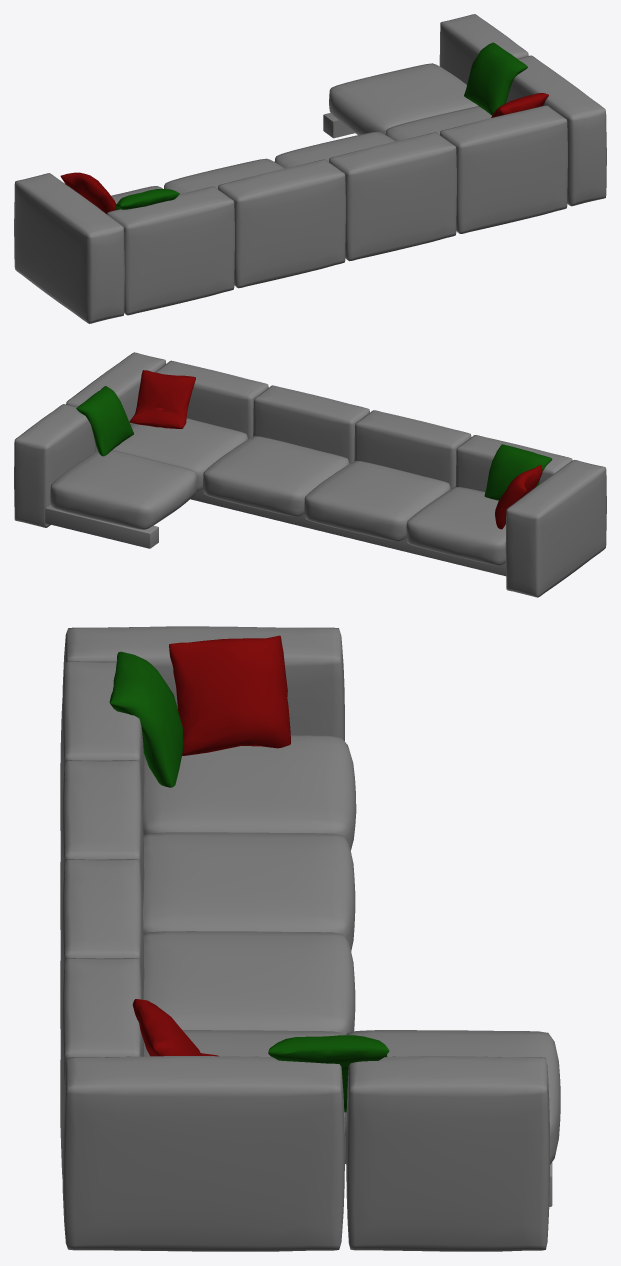
The model's file is Sofa.FBX.
3 views of the same model, one above another, from view 1: azimuth 30°, elevation 25°; view 2: azimuth 150°, elevation 25°; view 3: azimuth 270°, elevation 25° (orthographic). The views are drawn at different scales.
Parts seen in each view (by area): view 1: SofaFrame06, SofaFrame02, SofaFrame03, SofaFrame04, SofaFrame05, SeatCushion04, SofaFrame01, SofaFrame00, Cushion004, SeatCushion01, SeatCushion02, SeatCushion00 (+4 smaller); view 2: SofaFrame06, SeatCushion04, SeatCushion02, SeatCushion01, SofaFrame00, SofaFrame04, SofaFrame03, SeatCushion03, SeatCushion00, SofaFrame02, Cushion003, SofaFrame07 (+6 smaller); view 3: SofaFrame01, SofaFrame00, SeatCushion02, SeatCushion01, SeatCushion03, Cushion1, SofaFrame06, SofaFrame04, SofaFrame03, SofaFrame02, SofaFrame05, SeatCushion04 (+4 smaller).
Boxes of the visible parts, x1,y1,x2,y2 form: SofaFrame06: [14, 173, 124, 323]; SofaFrame02: [440, 105, 567, 233]; SofaFrame03: [329, 132, 456, 261]; SofaFrame04: [218, 159, 345, 288]; SofaFrame05: [107, 186, 234, 315]; SeatCushion04: [329, 63, 478, 134]; SofaFrame01: [506, 55, 606, 206]; SofaFrame00: [439, 14, 528, 84]; Cushion004: [464, 42, 527, 115]; SeatCushion01: [274, 131, 395, 168]; SeatCushion02: [164, 158, 284, 194]; SeatCushion00: [385, 106, 491, 141]; SofaFrame06: [505, 460, 606, 597]; SeatCushion04: [50, 450, 196, 529]; SeatCushion02: [304, 460, 450, 541]; SeatCushion01: [203, 436, 349, 516]; SofaFrame00: [14, 404, 95, 527]; SofaFrame04: [354, 410, 471, 488]; SofaFrame03: [253, 385, 369, 463]; SeatCushion03: [406, 487, 505, 565]; SeatCushion00: [112, 418, 247, 491]; SofaFrame02: [155, 360, 268, 439]; Cushion003: [129, 370, 195, 428]; SofaFrame07: [190, 489, 506, 576]; SofaFrame01: [62, 1056, 344, 1251]; SofaFrame00: [346, 1056, 549, 1251]; SeatCushion02: [142, 832, 355, 951]; SeatCushion01: [143, 931, 355, 1035]; SeatCushion03: [143, 734, 356, 850]; Cushion1: [169, 635, 290, 755]; SofaFrame06: [62, 626, 344, 741]; SofaFrame04: [60, 760, 144, 939]; SofaFrame03: [60, 859, 144, 1038]; SofaFrame02: [60, 958, 143, 1178]; SofaFrame05: [60, 661, 144, 840]; SeatCushion04: [345, 1030, 560, 1164].
Size of the model in its own units: 142 by 27.58 by 64.66.
